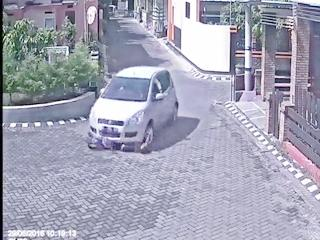Car: (86, 66, 177, 146)
Minor Accident: (82, 64, 180, 159)
Motor: (84, 135, 152, 158)
